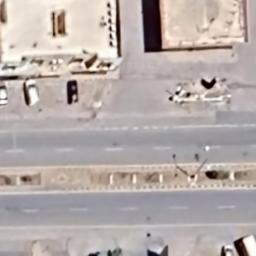SUV: (22, 76, 40, 106)
sedan: (65, 80, 82, 104), (0, 79, 9, 107)
